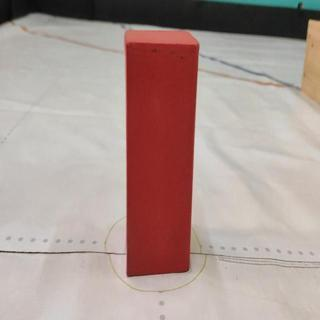redbox: (124, 29, 200, 277)
